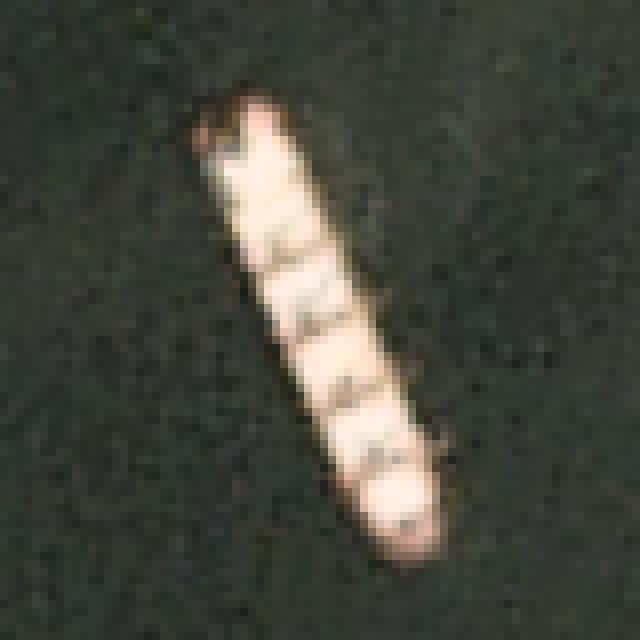ship: (164, 52, 514, 601)
